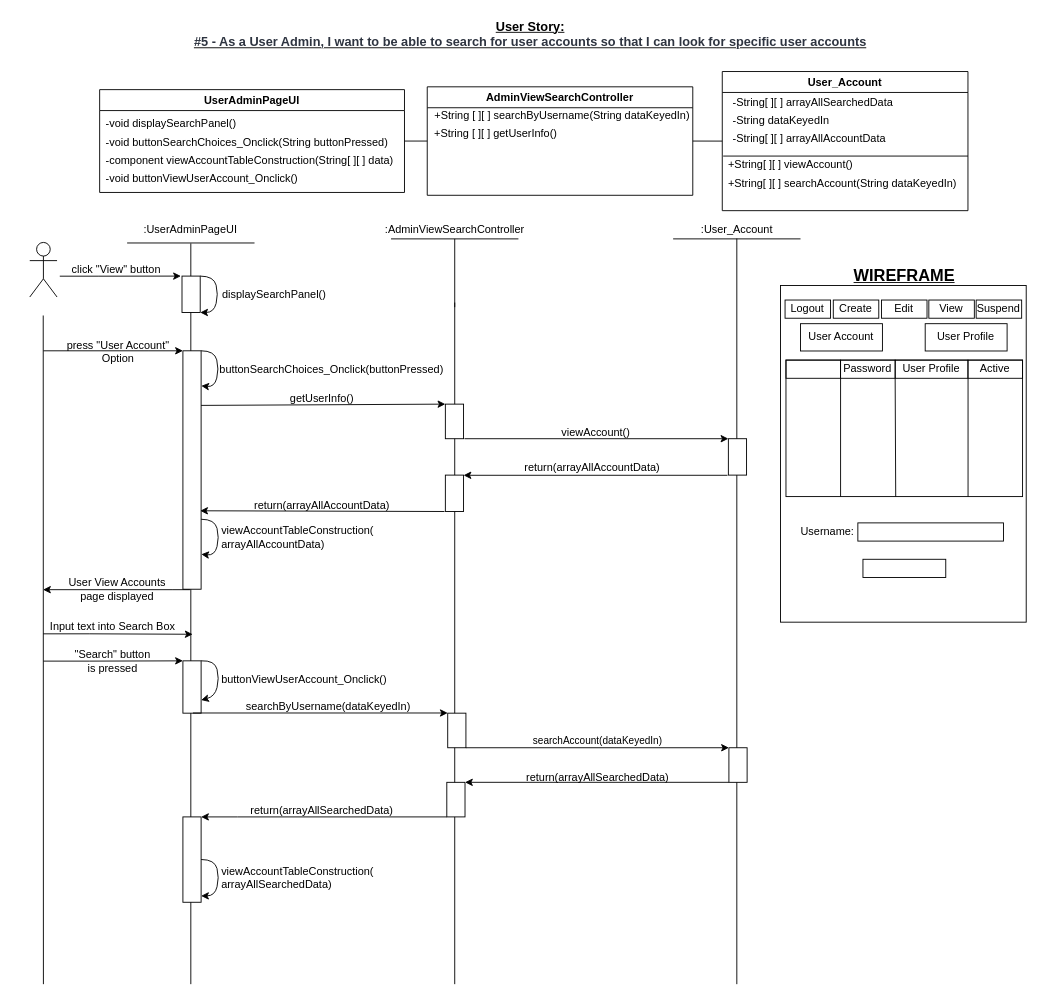
The diagram is 1043 pixels wide and 1001 high, and some of its shapes have lost their labels. Here are the shapes that lost their labels. From the top down, the centre of each, then its label:
At point 43,269: "User Admin".
At point 813,368: "Username".
At point 904,567: "Search By Username".
